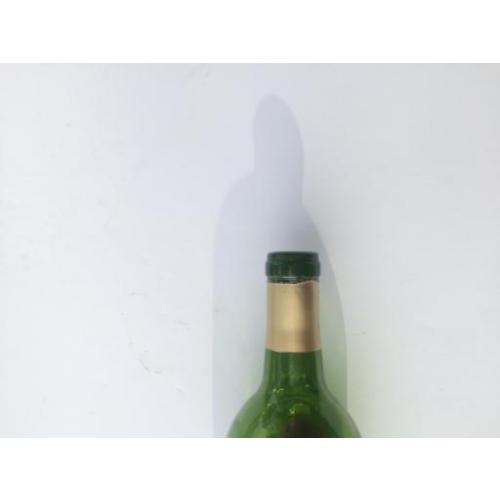glass: (227, 254, 359, 436)
